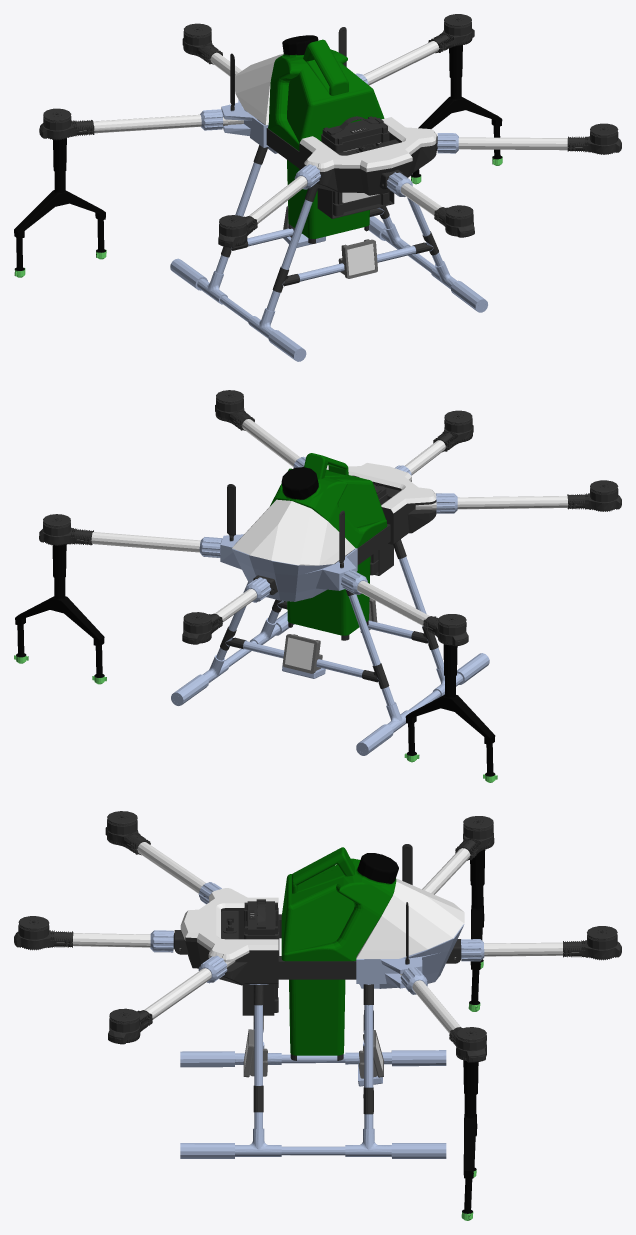
The model's file is Spraying Drone.fbx.
3 renders of one model, top to bottom at view 1: azimuth 30°, elevation 25°; view 2: azimuth 150°, elevation 25°; view 3: azimuth 270°, elevation 25°, orthographic. The views are drawn at different scales.
Parts seen in each view (by area): view 1: Spraying_Drone; view 2: Spraying_Drone; view 3: Spraying_Drone.
Boxes of the visible parts, x1,y1,x2,y2 form: Spraying_Drone: (14, 14, 621, 361); Spraying_Drone: (14, 390, 621, 782); Spraying_Drone: (14, 811, 621, 1220).
Size of the model in its own units: 138 by 66.05 by 137.
